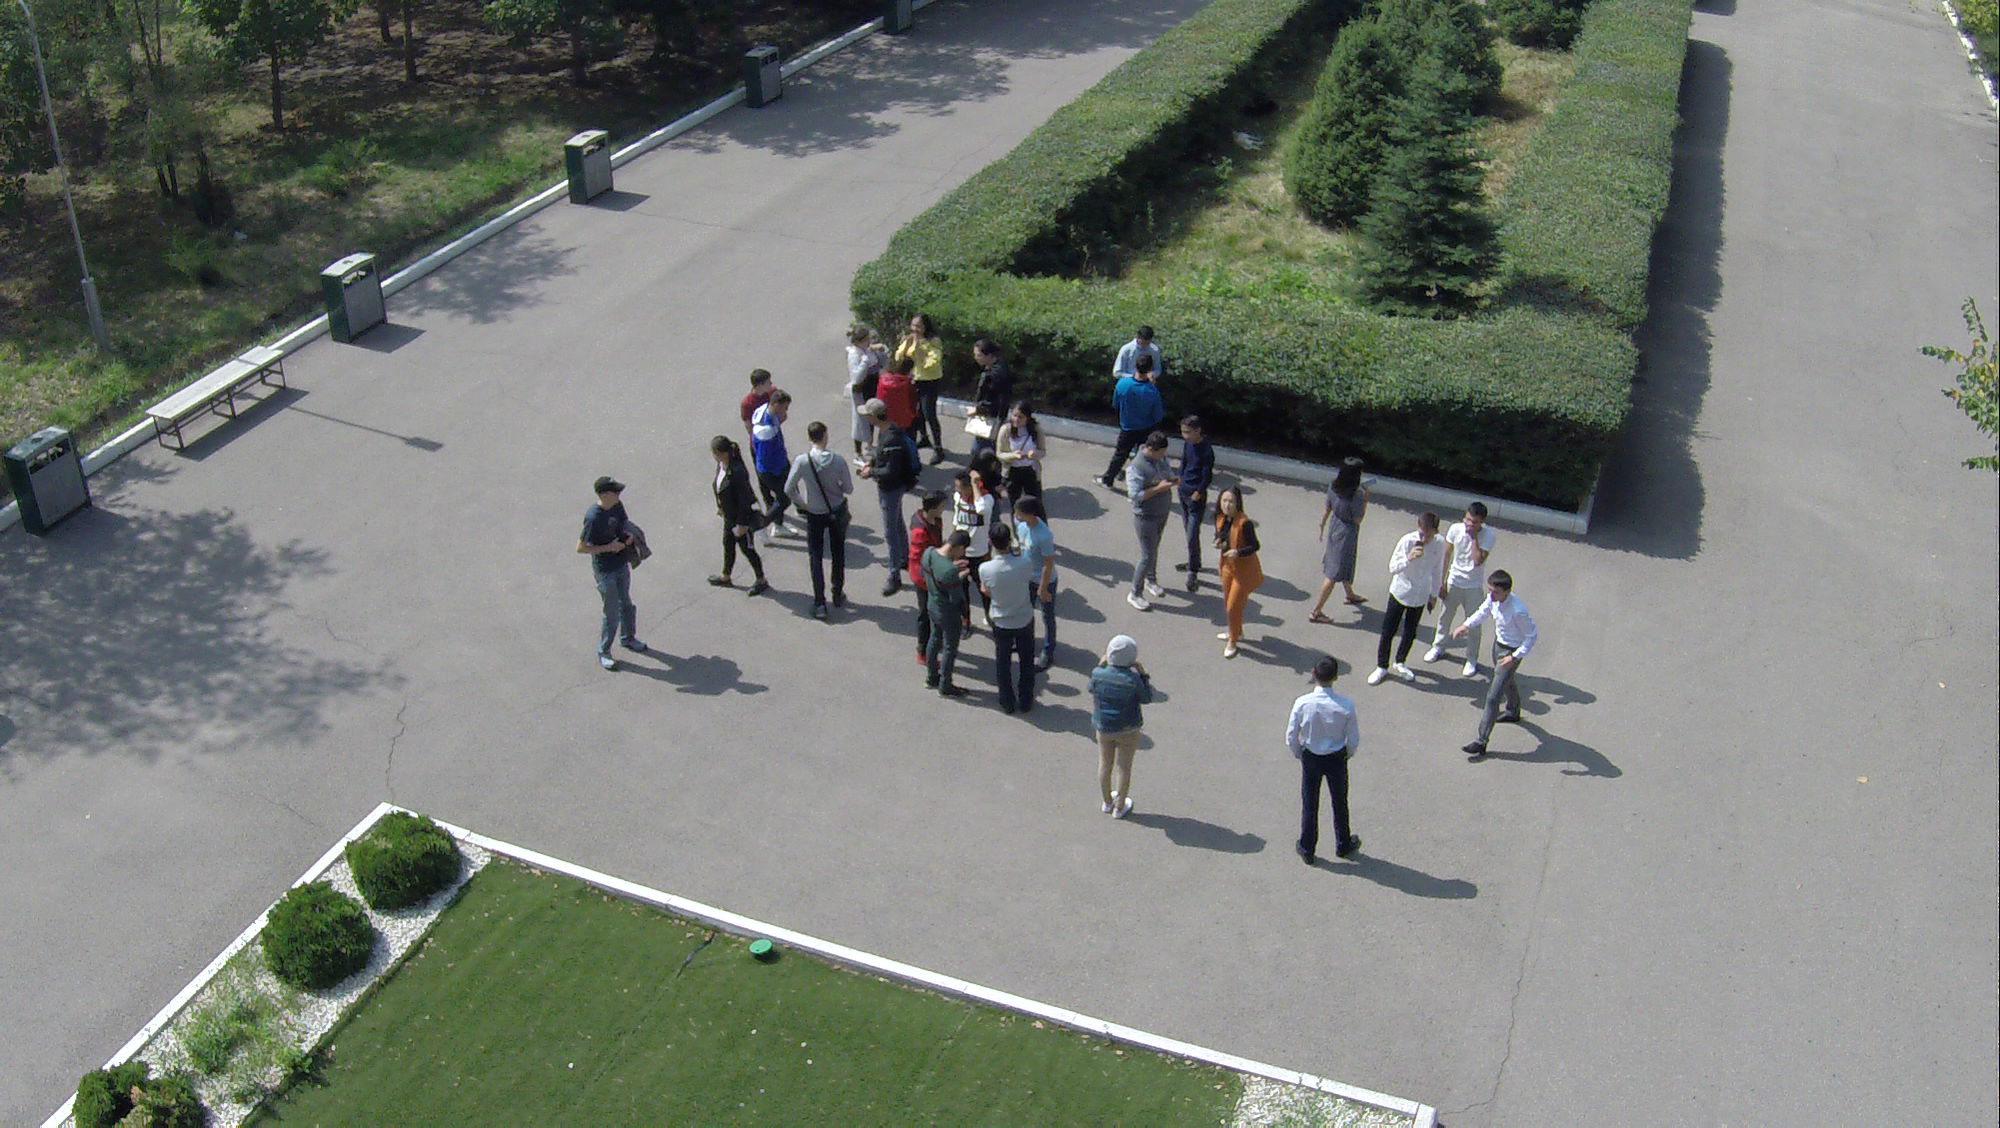person: (576, 470, 657, 689), (1291, 653, 1372, 868), (1462, 564, 1532, 762), (701, 439, 778, 612), (851, 403, 907, 618), (1085, 633, 1145, 828), (799, 418, 851, 626), (1205, 480, 1262, 664), (1316, 453, 1376, 628), (987, 530, 1039, 718), (1372, 501, 1422, 693), (1120, 428, 1166, 616), (1437, 510, 1489, 668), (1178, 414, 1222, 591), (922, 533, 966, 703), (957, 326, 1001, 483), (755, 393, 799, 547), (1026, 505, 1066, 674), (903, 318, 945, 464), (1003, 397, 1045, 501), (1122, 360, 1157, 460), (1124, 324, 1166, 368), (745, 358, 774, 414)
